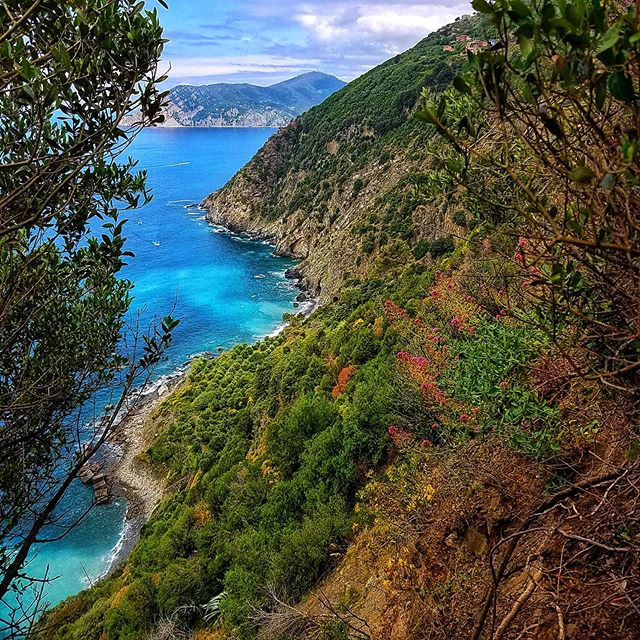sea: (52, 117, 274, 352)
tree: (1, 1, 167, 618)
vegetation: (161, 54, 640, 623)
